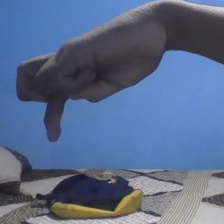P: (14, 1, 173, 145)
